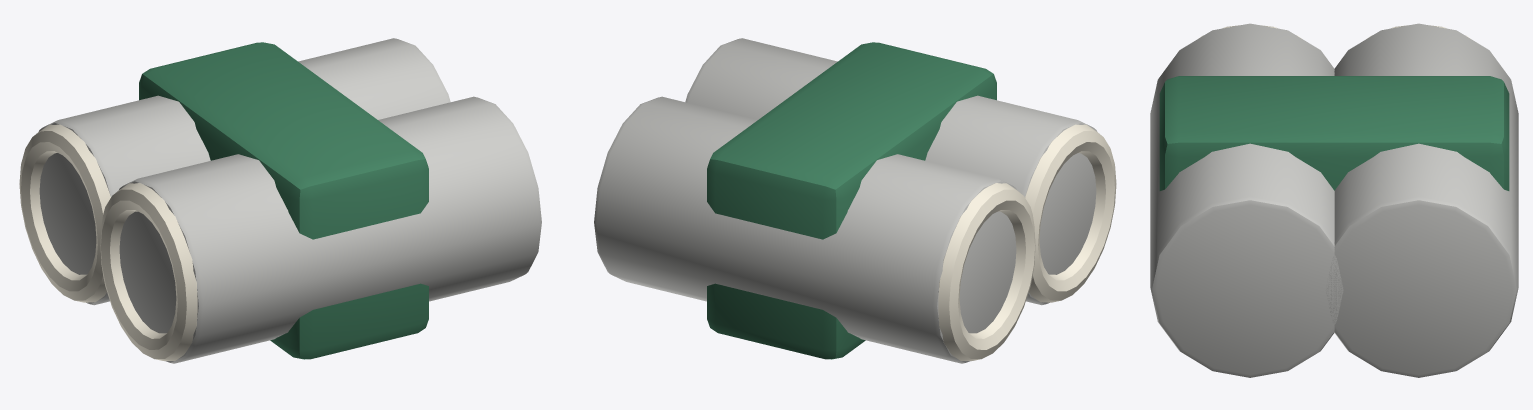
Rendered from checkout_product_sock_pair.glb.
3 renders of one model, left to right at view 1: azimuth 30°, elevation 25°; view 2: azimuth 150°, elevation 25°; view 3: azimuth 270°, elevation 25°, orthographic. The views are drawn at different scales.
Visible parts, largest first — view 1: SockRoll_1, SockPairBand, SockRoll_2, SockCuff_1, SockCuff_2; view 2: SockRoll_2, SockPairBand, SockRoll_1, SockCuff_2, SockCuff_1; view 3: SockRoll_1, SockRoll_2, SockPairBand.
Part boxes in pixels (bbox=[...]): SockRoll_1: bbox=[119, 96, 541, 363]; SockPairBand: bbox=[139, 42, 428, 359]; SockRoll_2: bbox=[38, 38, 450, 305]; SockCuff_1: bbox=[100, 183, 197, 361]; SockCuff_2: bbox=[19, 124, 110, 302]; SockRoll_2: bbox=[594, 96, 1016, 363]; SockPairBand: bbox=[707, 42, 996, 359]; SockRoll_1: bbox=[685, 38, 1097, 305]; SockCuff_2: bbox=[938, 183, 1035, 361]; SockCuff_1: bbox=[1025, 124, 1116, 302]; SockRoll_1: bbox=[1150, 23, 1343, 377]; SockRoll_2: bbox=[1326, 23, 1518, 377]; SockPairBand: bbox=[1159, 76, 1509, 190].
Bounding box in the file's own units: 0.15 × 0.068 × 0.118.
